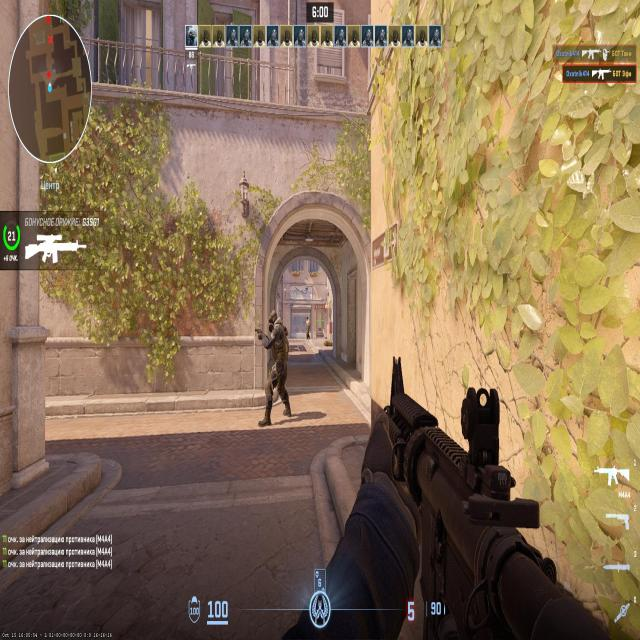CT: (271, 313, 285, 394)
CT_heat: (271, 320, 279, 334)
T: (306, 318, 310, 336)
T_heat: (307, 321, 308, 324)
